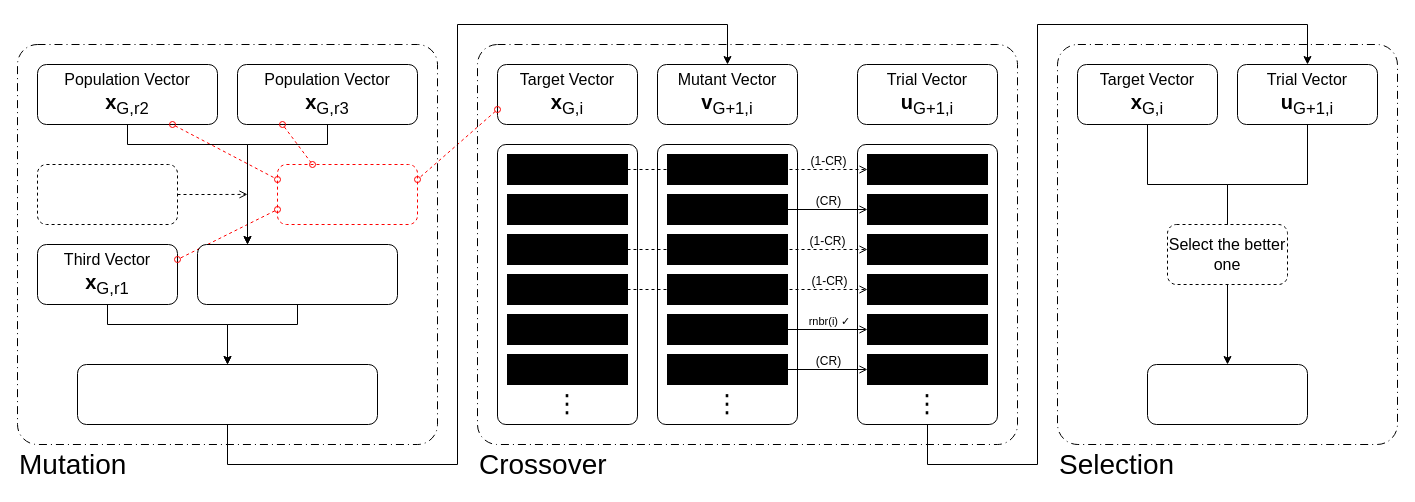
This 1415x502 diagram has some shape labels left out. The centre of each missing label's shape, as x and y in pixels:
Ampl. Factor F: (x=107, y=194)
i, r1, r2, r3 are pairwise distinct.: (x=347, y=194)
Mutated Vector v G+1,i = x G,r1 + F · ( x G,r2 - x G,r3 ): (x=227, y=394)
Next Generation x G+1,i: (x=1227, y=394)
Weighted Difference F · ( x G,r2 - x G,r3 ): (x=297, y=274)
